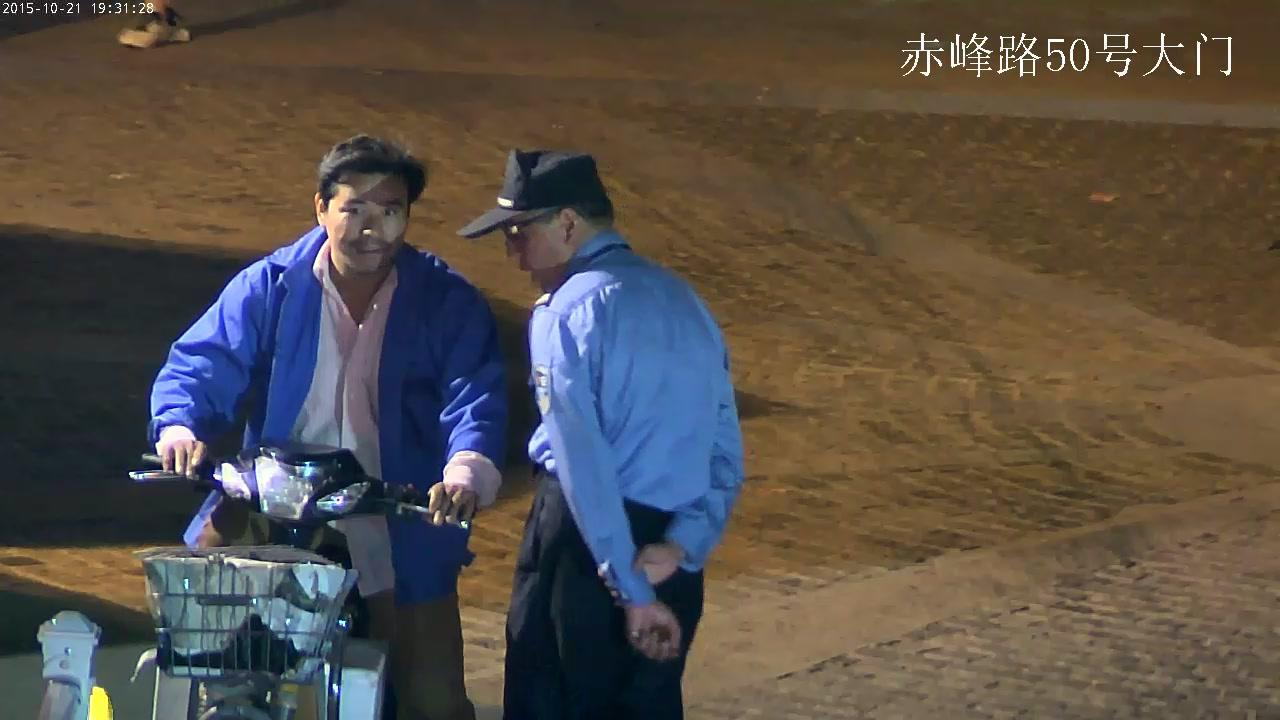face: (328, 170, 407, 272), (504, 223, 567, 291)
